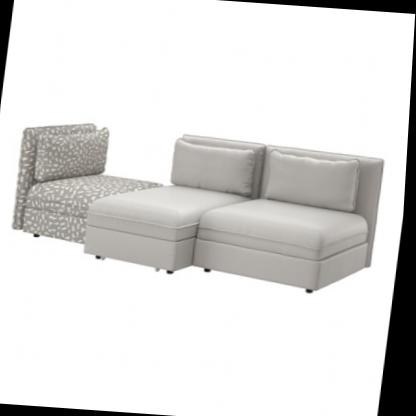Sofa: (2, 115, 393, 301)
